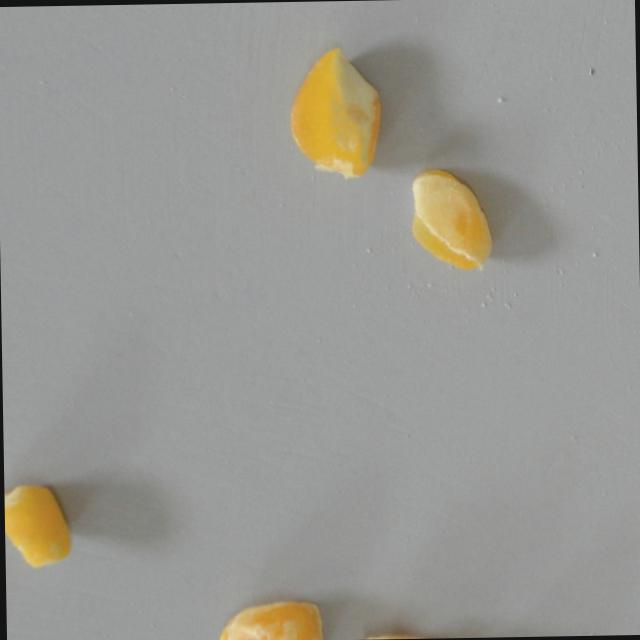dañado: (280, 37, 384, 185), (406, 163, 494, 276), (3, 475, 78, 575), (215, 595, 326, 640), (342, 626, 477, 640)
